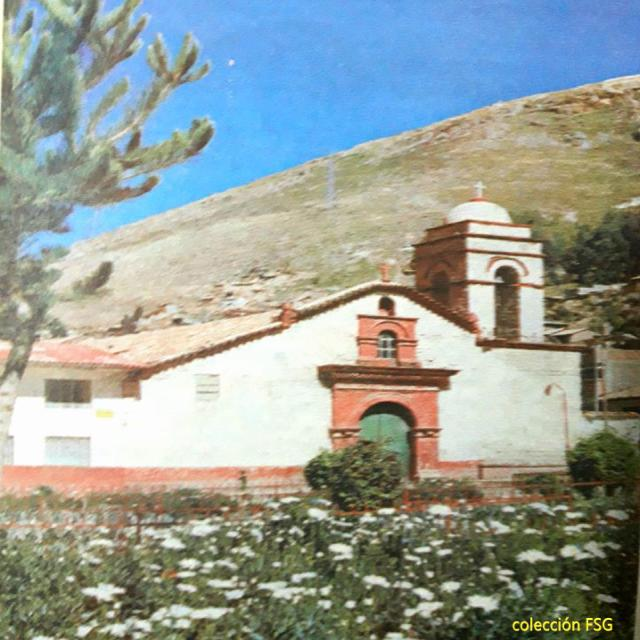CAMPANARIO: (412, 219, 552, 345)
CUPULA: (0, 169, 636, 516)
PORTADA CENTRAL: (424, 183, 536, 233)
SIMETRIA COLONIAL: (320, 361, 460, 496)
TORRES: (422, 188, 606, 508)
